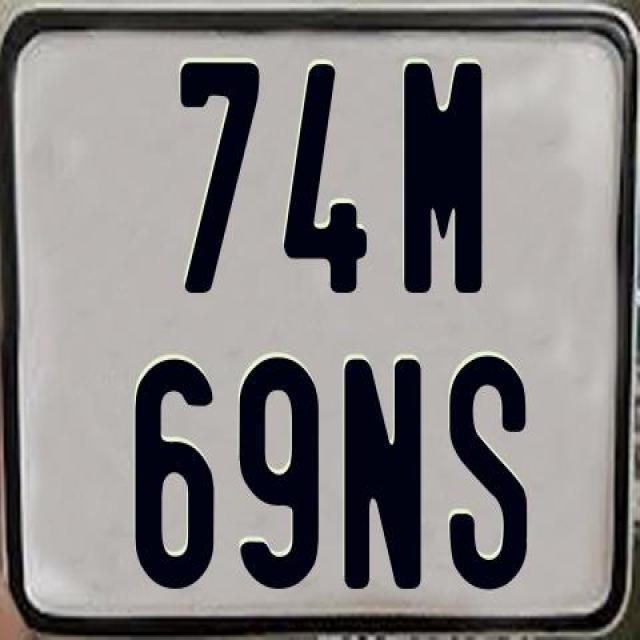4: (284, 60, 372, 298)
6: (134, 357, 218, 596)
7: (178, 63, 266, 294)
9: (238, 357, 322, 597)
M: (404, 59, 482, 291)
N: (344, 354, 428, 594)
S: (446, 354, 526, 598)
